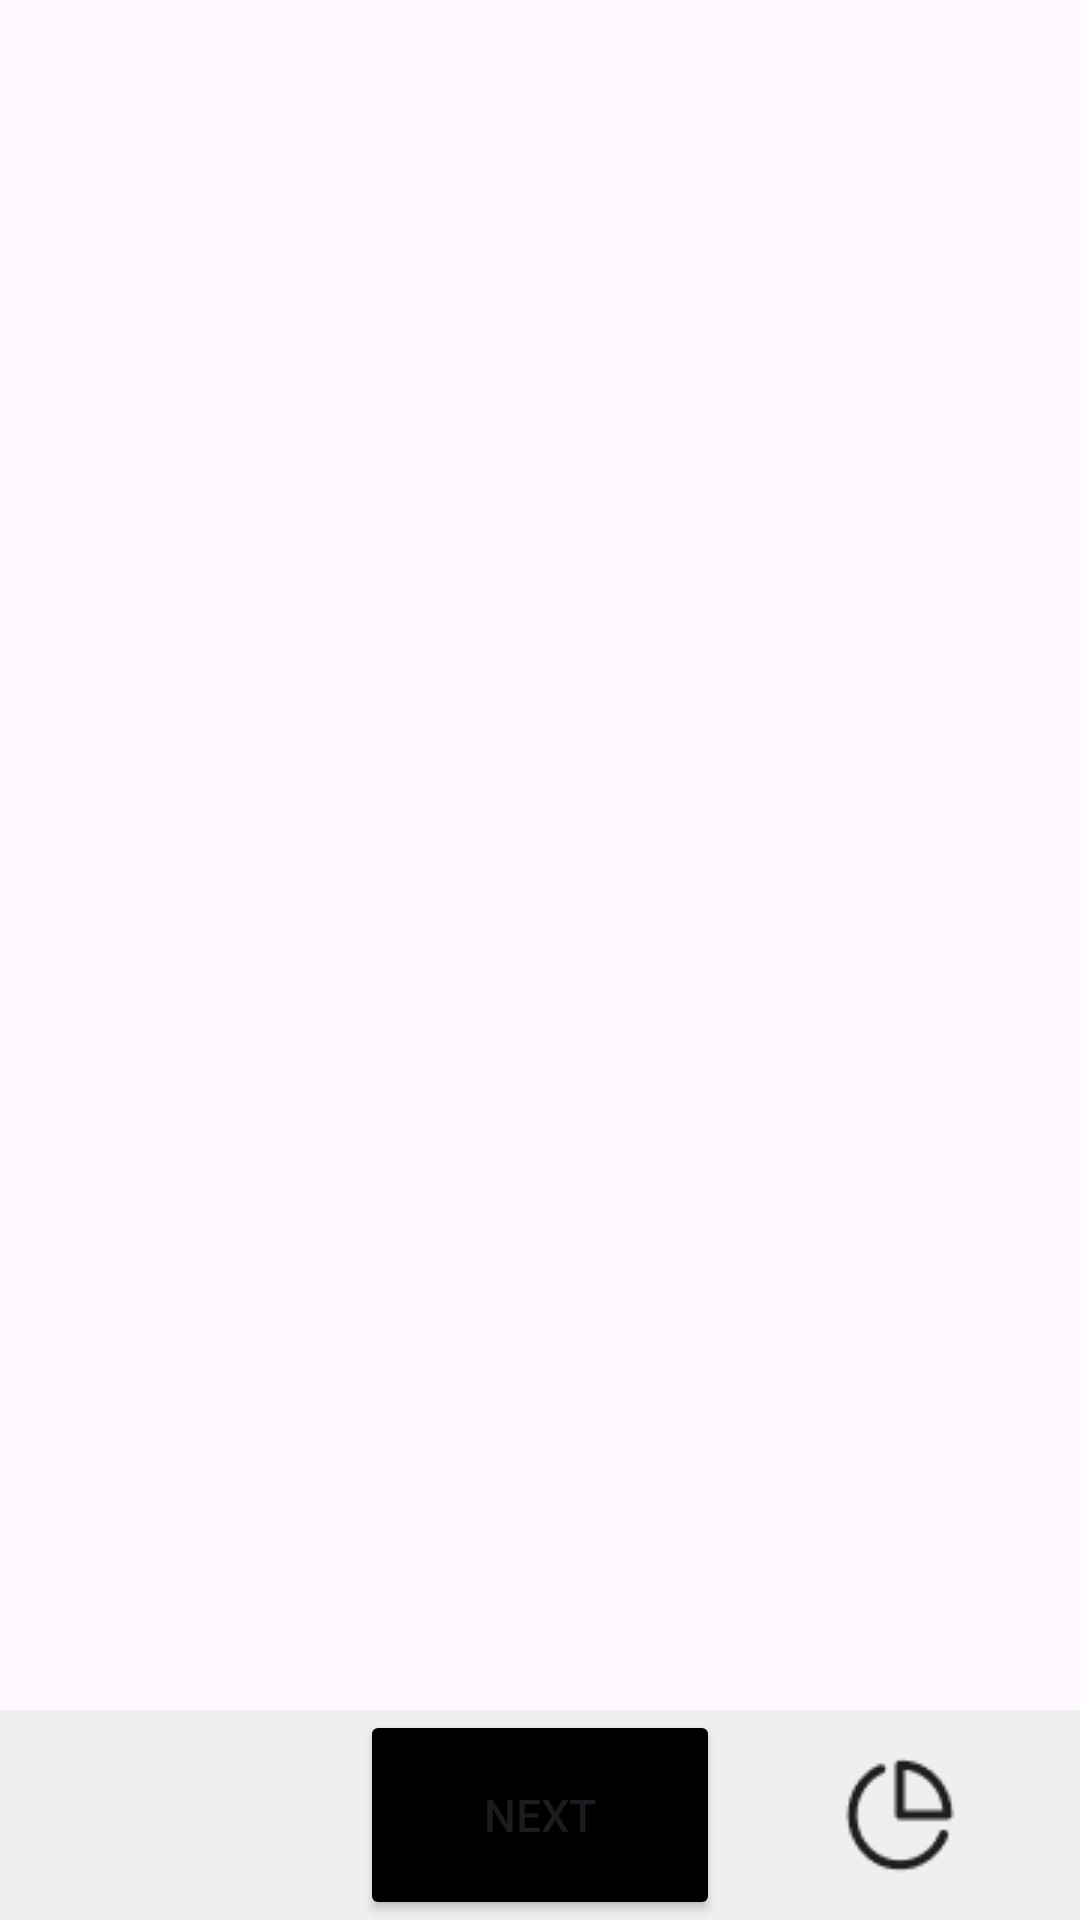

Screen size 1080w x 1920h. Icon name, then its center in pixels as point (x, y):
pie chart: point (900, 1815)
